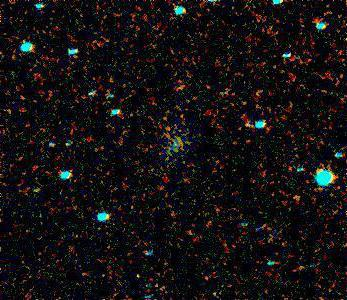star: (123, 263, 153, 293)
